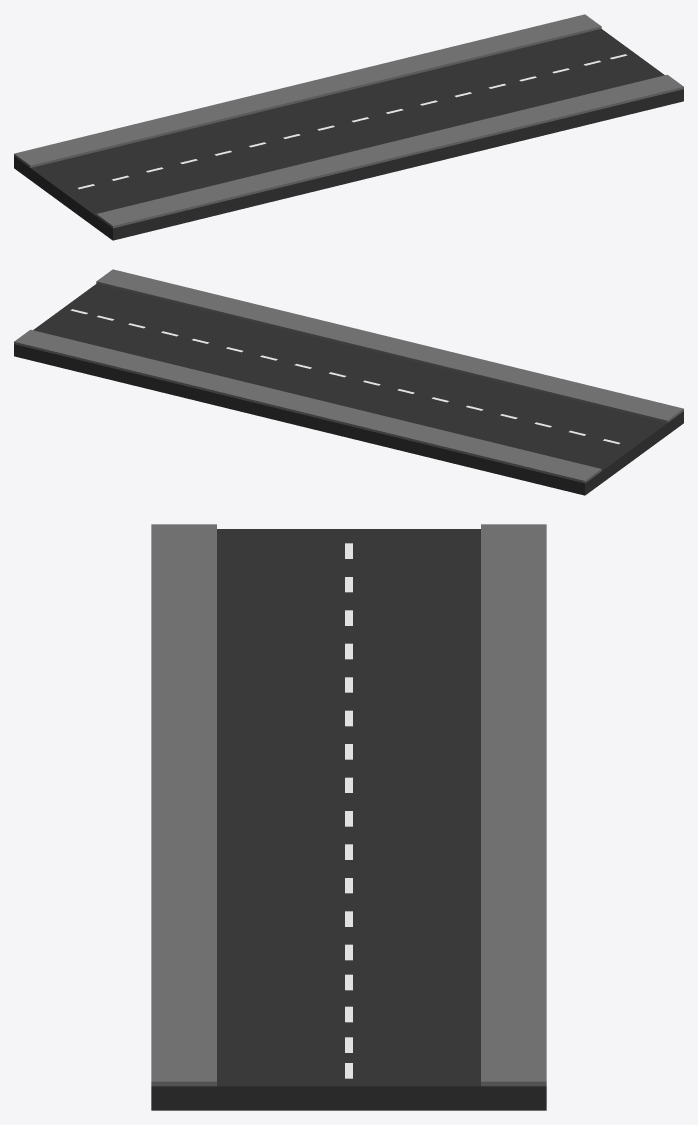
The model's file is Cargo_Road_2_Seritli_50M.fbx.
The picture shows the model from 3 angles, top to bottom: view 1: azimuth 30°, elevation 25°; view 2: azimuth 150°, elevation 25°; view 3: azimuth 270°, elevation 25°; orthographic projection. The views are drawn at different scales.
Visible parts, largest first — view 1: Cargo_Road_2_Seritli_50m_Dikey; view 2: Cargo_Road_2_Seritli_50m_Dikey; view 3: Cargo_Road_2_Seritli_50m_Dikey.
Boxes of the visible parts, <box> form: Cargo_Road_2_Seritli_50m_Dikey: <box>14,14,683,240</box>; Cargo_Road_2_Seritli_50m_Dikey: <box>14,269,683,495</box>; Cargo_Road_2_Seritli_50m_Dikey: <box>151,524,546,1110</box>.
Size of the model in its own units: 5000 by 123 by 1500.
